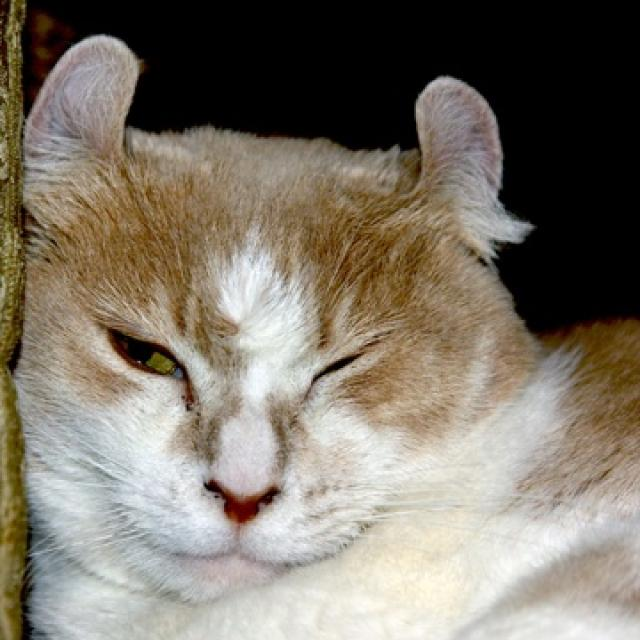American Curl: (9, 28, 640, 640)
